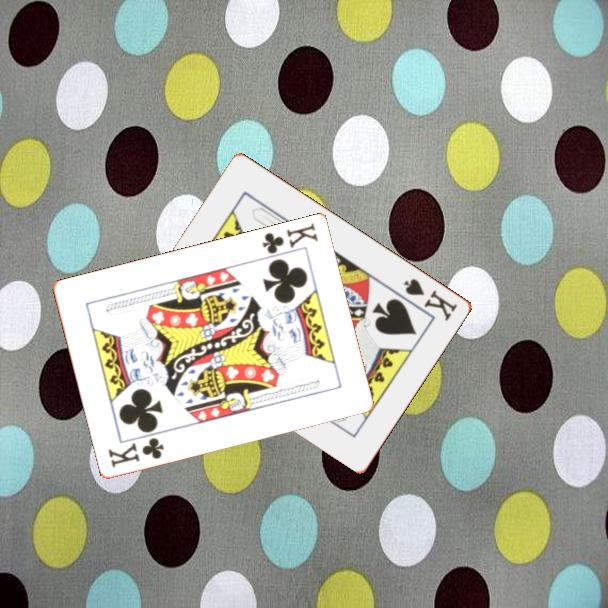c13: (258, 220, 321, 257), (104, 434, 166, 471)
s13: (400, 275, 461, 324)
